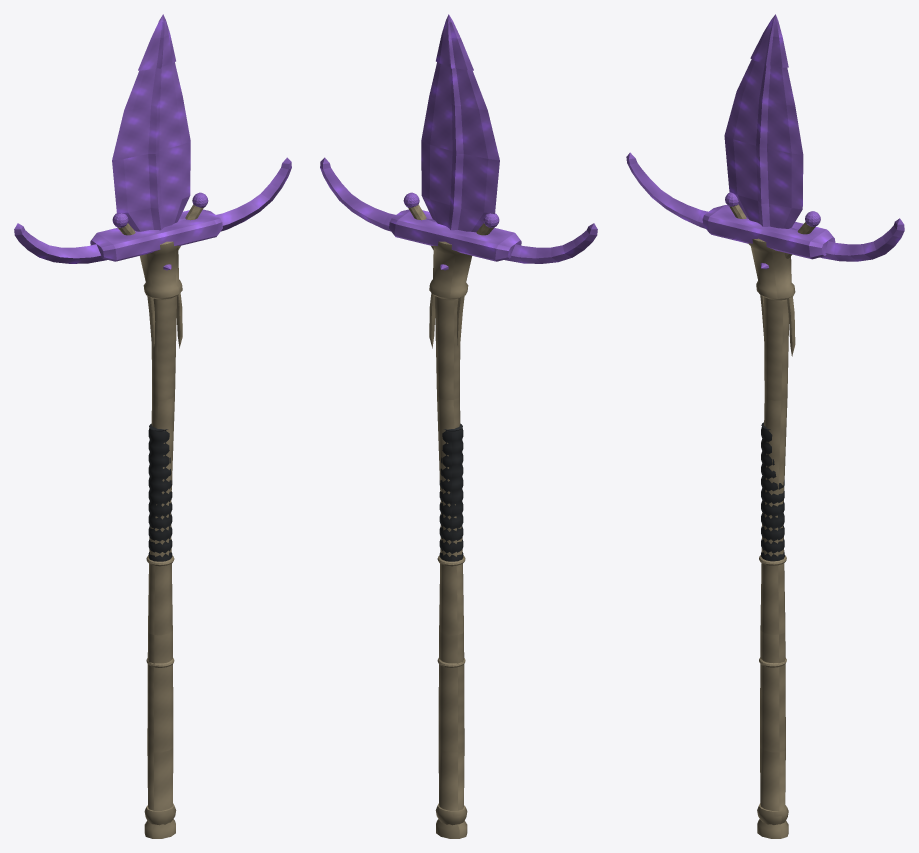
Rendered from underworld-weapon-titanbone-atgeir.glb.
3 views of the same model, side by side, from view 1: azimuth 30°, elevation 25°; view 2: azimuth 150°, elevation 25°; view 3: azimuth 330°, elevation 25° (orthographic).
Parts seen in each view (by area): view 1: main-point, pole, wing-core, grip-wrap, socket, left-wing, right-wing, tip, butt-cap; view 2: main-point, pole, wing-core, grip-wrap, socket, left-wing, right-wing, tip, butt-cap; view 3: pole, main-point, wing-core, grip-wrap, socket, right-wing, left-wing, tip, butt-cap.
Boxes of the visible parts, <box> form: main-point: <box>112,62,190,231</box>; pole: <box>144,296,176,838</box>; wing-core: <box>90,209,222,261</box>; grip-wrap: <box>148,423,172,561</box>; socket: <box>140,241,182,299</box>; left-wing: <box>14,223,136,263</box>; right-wing: <box>178,157,291,231</box>; tip: <box>138,14,175,70</box>; butt-cap: <box>144,293,182,825</box>; main-point: <box>421,62,499,232</box>; pole: <box>435,296,467,838</box>; wing-core: <box>389,209,521,261</box>; grip-wrap: <box>439,423,463,561</box>; socket: <box>429,241,471,299</box>; left-wing: <box>504,223,597,263</box>; right-wing: <box>320,157,435,231</box>; tip: <box>436,14,473,70</box>; butt-cap: <box>429,293,467,825</box>; pole: <box>757,297,788,838</box>; main-point: <box>724,59,803,228</box>; wing-core: <box>702,205,835,259</box>; grip-wrap: <box>761,422,784,561</box>; socket: <box>748,238,795,300</box>; right-wing: <box>789,218,904,261</box>; left-wing: <box>626,152,747,228</box>; tip: <box>750,14,788,67</box>; butt-cap: <box>757,295,795,824</box>.
Bounding box in the file's own units: 0.8004 × 2.26 × 0.1123.
Materials: 3 (3 with a texture image).
